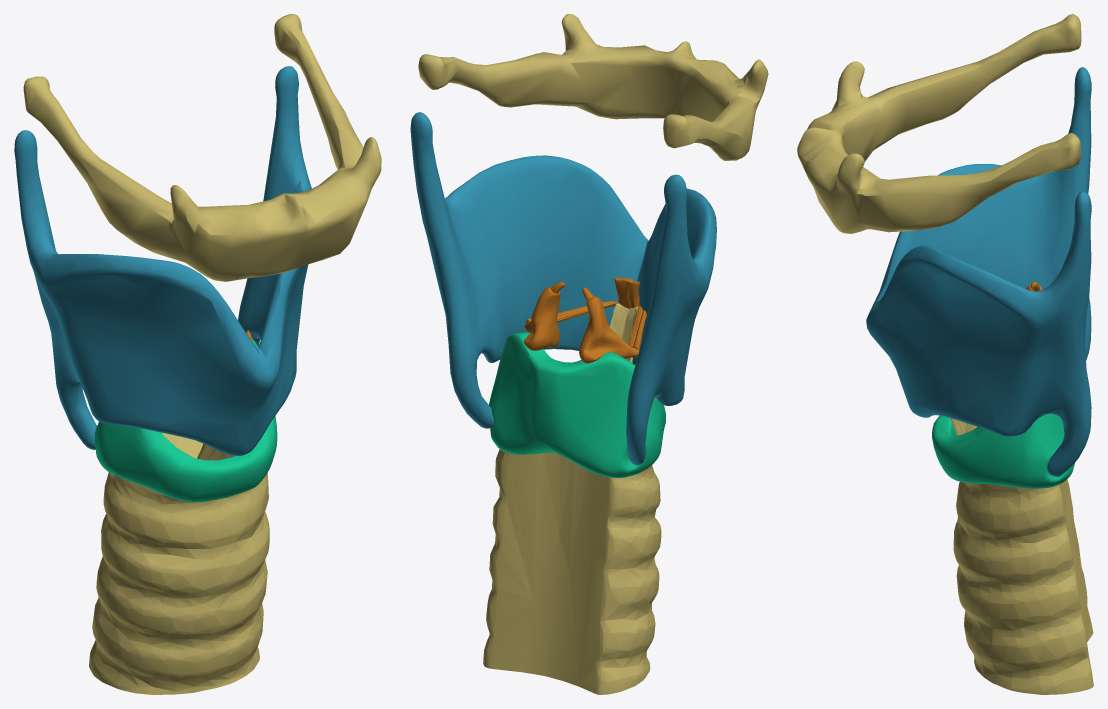
The model's file is fbx_frame_0007.obj.
The picture shows the model from 3 angles, left to right: view 1: azimuth 30°, elevation 25°; view 2: azimuth 150°, elevation 25°; view 3: azimuth 270°, elevation 25°; orthographic projection. The views are drawn at different scales.
Parts seen in each view (by area): view 1: maya2sketchfab.010, maya2sketchfab.001, maya2sketchfab.011, maya2sketchfab.005; view 2: maya2sketchfab.010, maya2sketchfab.001, maya2sketchfab.011, maya2sketchfab.005, maya2sketchfab.004, maya2sketchfab.006, maya2sketchfab.007; view 3: maya2sketchfab.010, maya2sketchfab.001, maya2sketchfab.011, maya2sketchfab.005.
Part boxes in pixels (box(x1,y1,x2,y2)): maya2sketchfab.010: box(14, 66, 311, 455); maya2sketchfab.001: box(89, 432, 269, 694); maya2sketchfab.011: box(23, 14, 381, 281); maya2sketchfab.005: box(94, 338, 277, 502); maya2sketchfab.010: box(410, 112, 716, 465); maya2sketchfab.001: box(483, 303, 661, 694); maya2sketchfab.011: box(418, 14, 768, 160); maya2sketchfab.005: box(489, 332, 665, 477); maya2sketchfab.004: box(579, 287, 639, 363); maya2sketchfab.006: box(524, 282, 565, 350); maya2sketchfab.007: box(614, 277, 640, 308); maya2sketchfab.010: box(866, 67, 1091, 476); maya2sketchfab.001: box(950, 418, 1093, 694); maya2sketchfab.011: box(797, 14, 1081, 233); maya2sketchfab.005: box(932, 413, 1074, 488).
Bounding box in the file's own units: 38.66 × 78.9 × 36.37.
